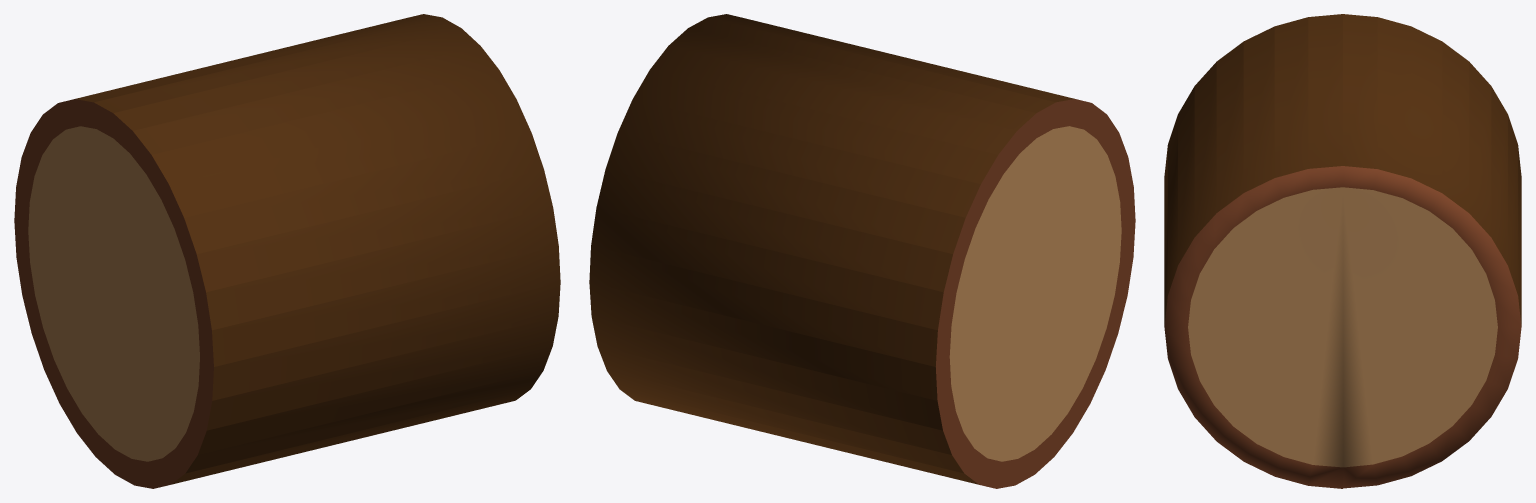
File: LogMIdRight.fbx
The picture shows the model from 3 angles, left to right: view 1: azimuth 30°, elevation 25°; view 2: azimuth 150°, elevation 25°; view 3: azimuth 270°, elevation 25°; orthographic projection. The views are drawn at different scales.
Parts seen in each view (by area): view 1: Бревно право; view 2: Бревно право; view 3: Бревно право.
Boxes of the visible parts, box(x1,y1,x2,y2) form: Бревно право: box(14, 14, 560, 488); Бревно право: box(589, 14, 1135, 488); Бревно право: box(1164, 14, 1521, 488).
Size of the model in its own units: 302 by 300 by 300.
